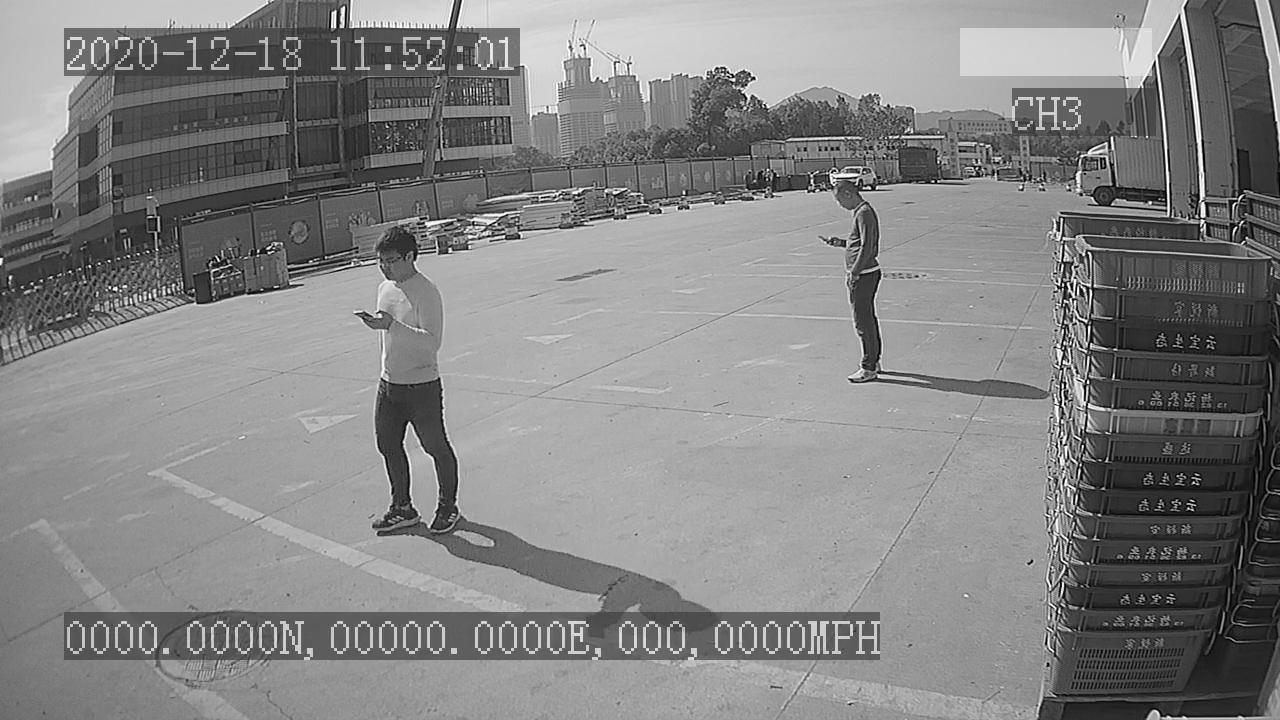person: (345, 219, 465, 549), (813, 170, 888, 390)
